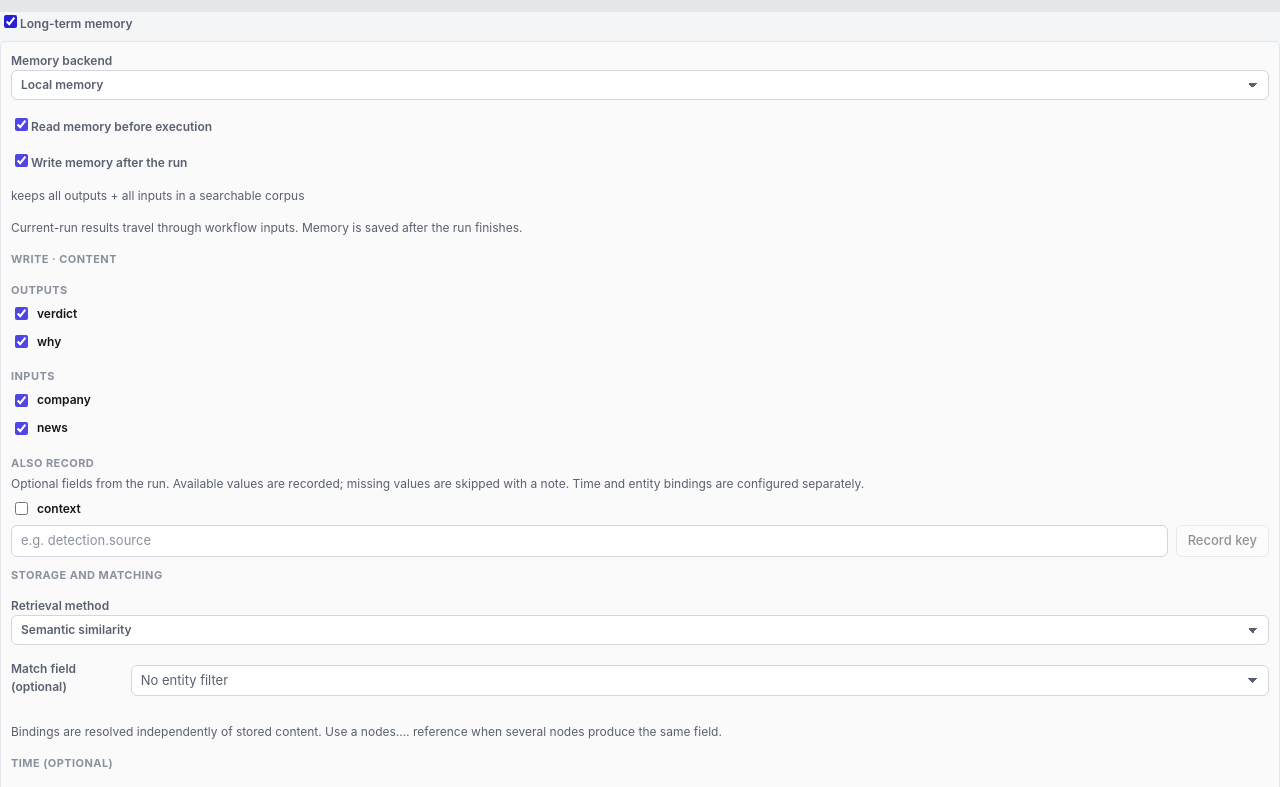
it: recording a key inside a JSON answer › refuses a key on a field the run does not have
In the field named "Record a key inside a field": {"x": 589, "y": 541} [11,525,1168,556], type "nothing.source"
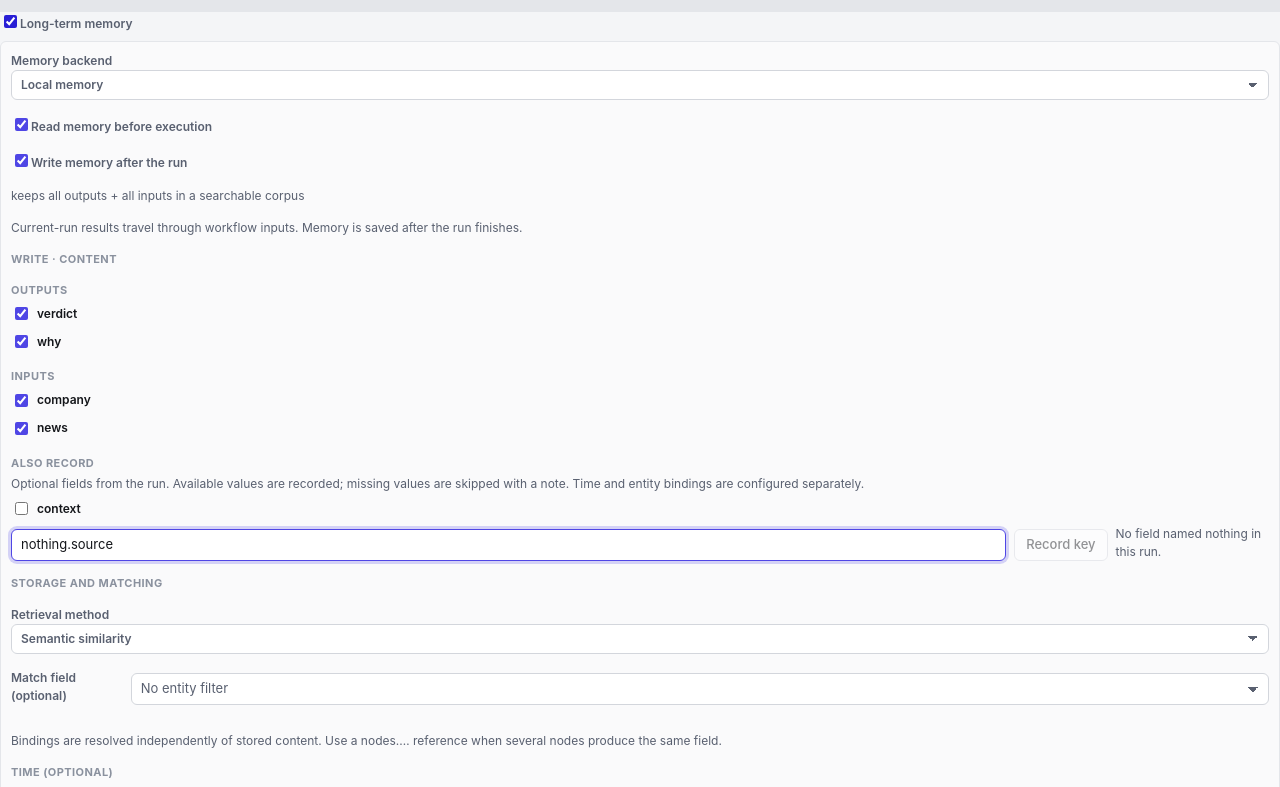
Expected: the button "Record key" is disabled, [1014,529,1108,561]
Now the text "No field named nothing in this run." is shown, box [1116,525,1269,561]
